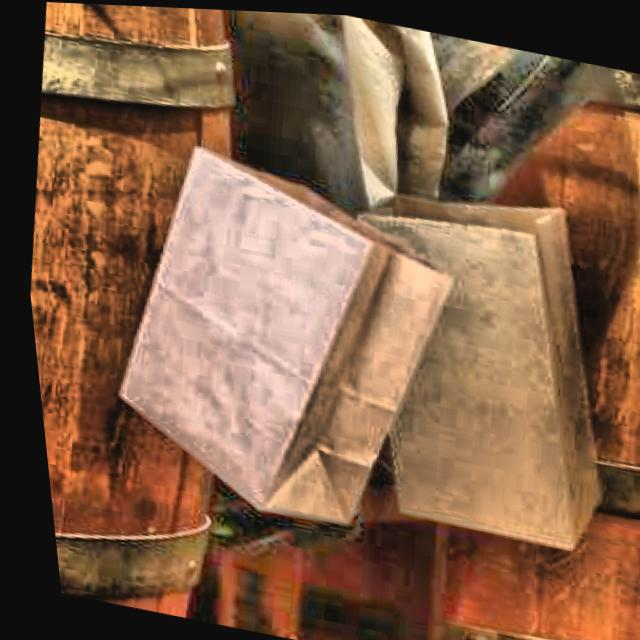Paper-bag: (68, 123, 487, 553), (286, 151, 640, 569)
